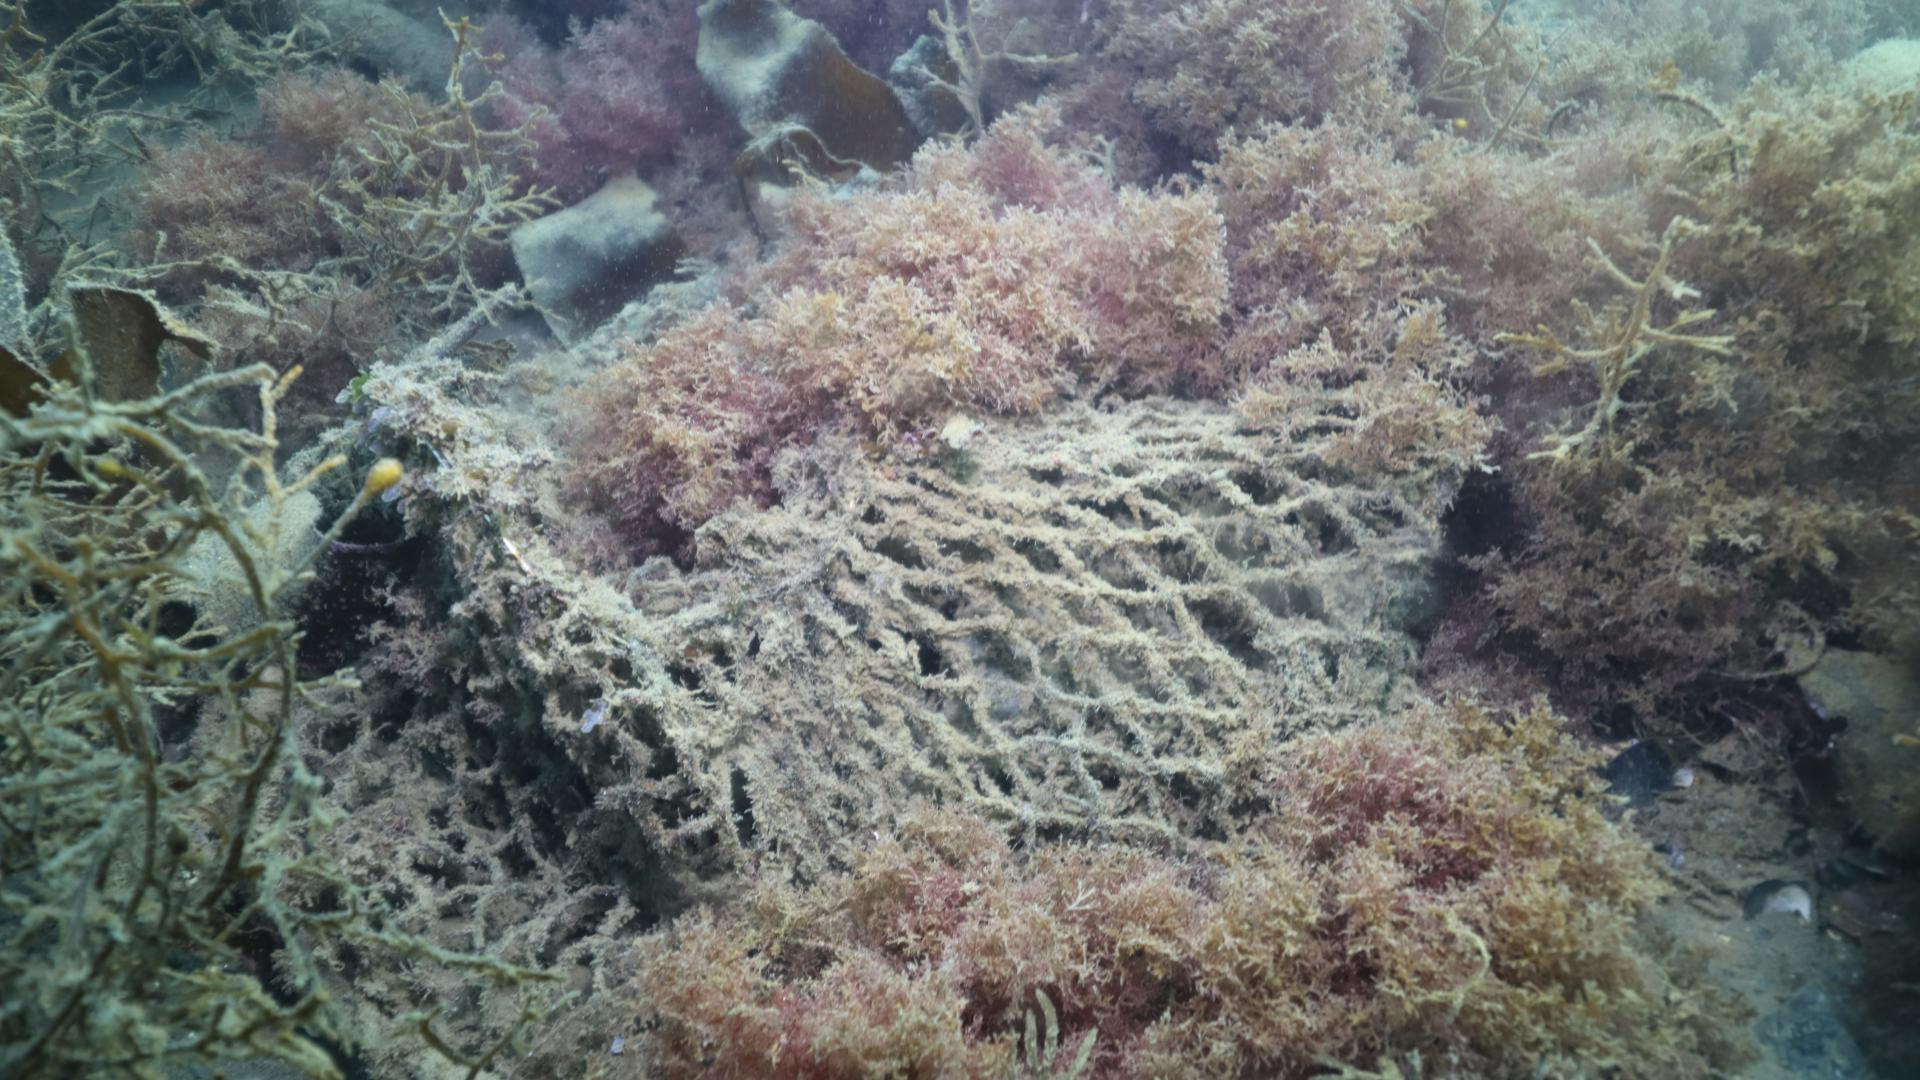fish net: (239, 393, 1469, 996)
